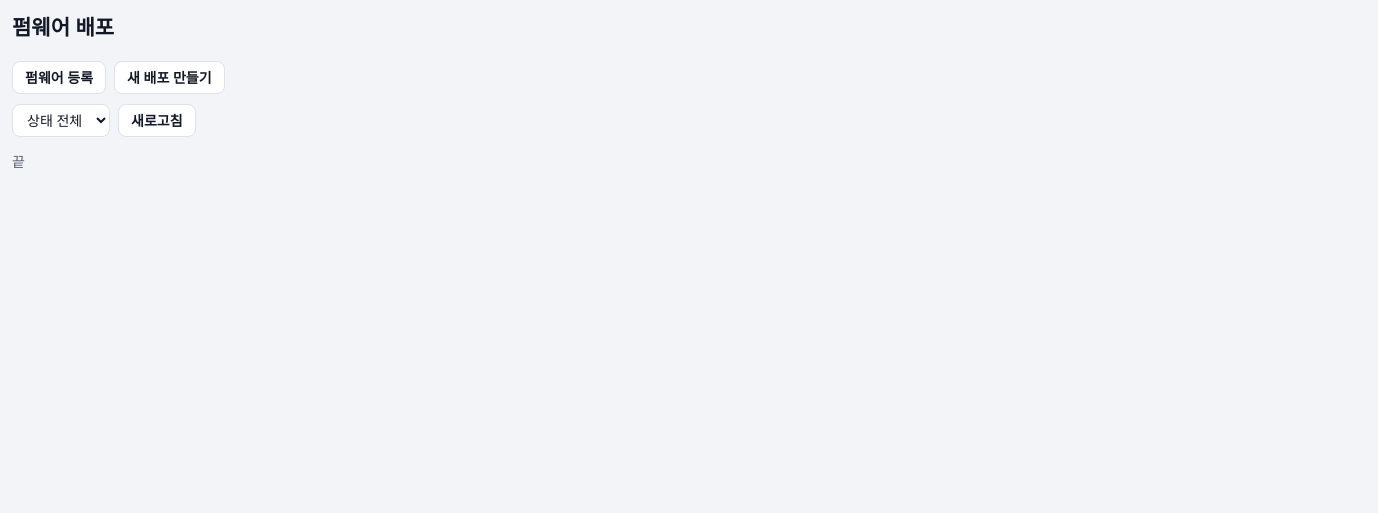
Test: 펌웨어 등록·배포 만들기 (F8, 보강 5) › 등록된 펌웨어가 없는 모델은 안내하고 버전 선택이 꺼진다. 진행 중 배포가 있으면(409 ROLLOUT_ALREADY_ACTIVE) 안내
Click the button "새 배포 만들기" at (169, 78), box x1=114 y1=61 x2=225 y2=94
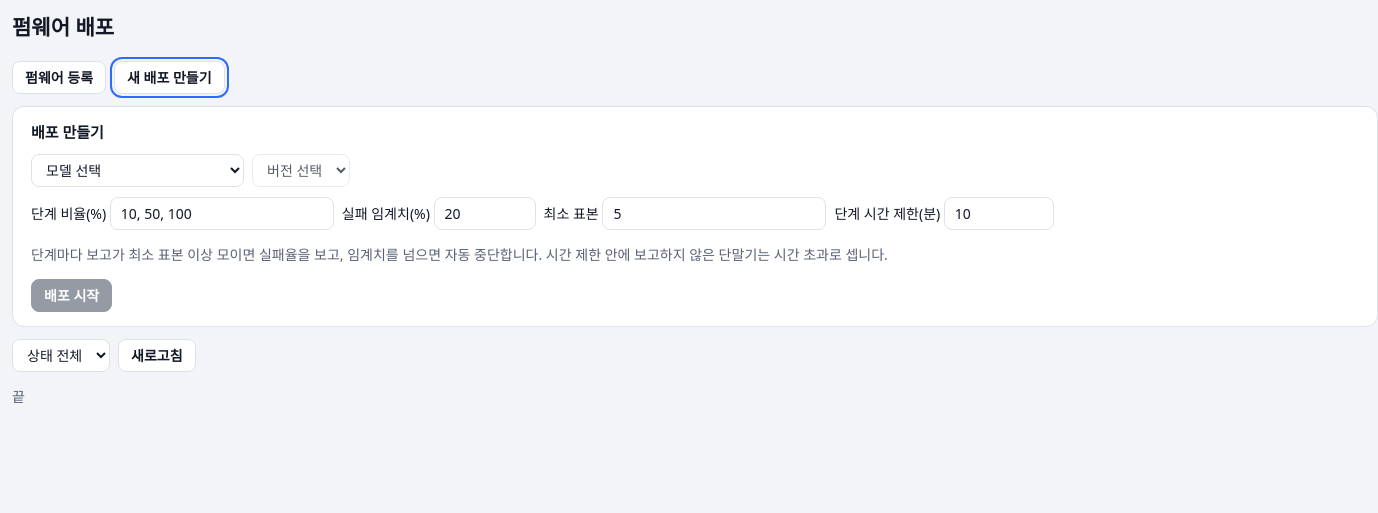
Select "SN-300 테이블오더 태블릿형" in the dropdown named "배포 모델" at (138, 170), box x1=31 y1=154 x2=244 y2=187
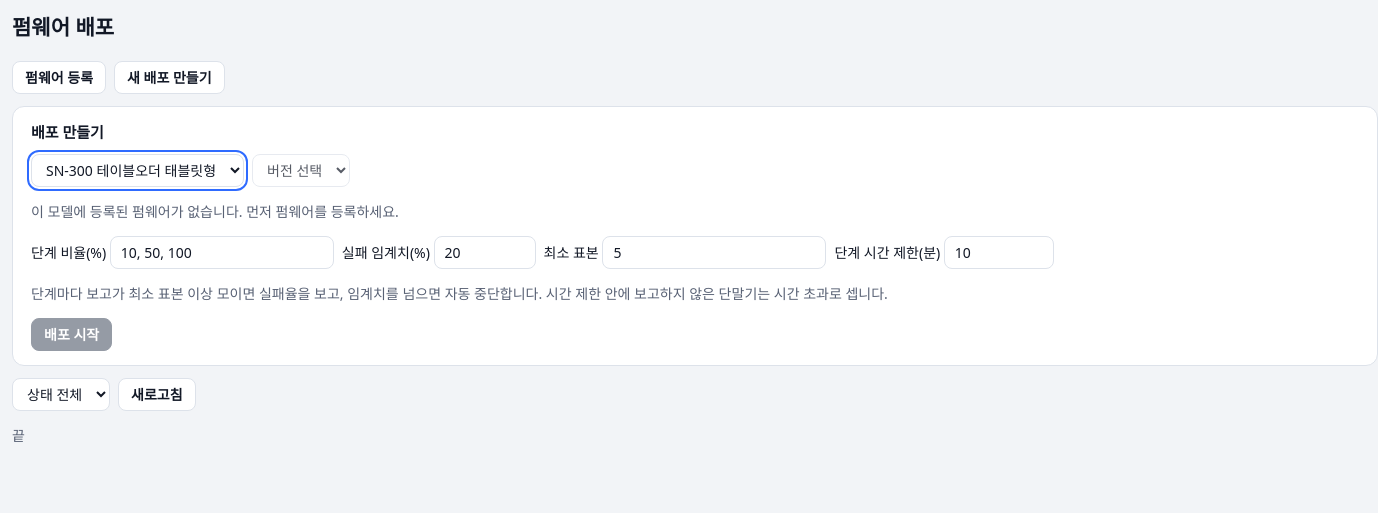
Result: the dropdown named "배포 버전" is disabled at x1=252 y1=154 x2=350 y2=187
Result: the text "이 모델에 등록된 펌웨어가 없습니다. 먼저 펌웨어를 등록하세요." is shown at x1=31 y1=202 x2=399 y2=221
Select "SN-100 유선 카운터형" in the dropdown named "배포 모델" at (138, 170), box x1=31 y1=154 x2=244 y2=187
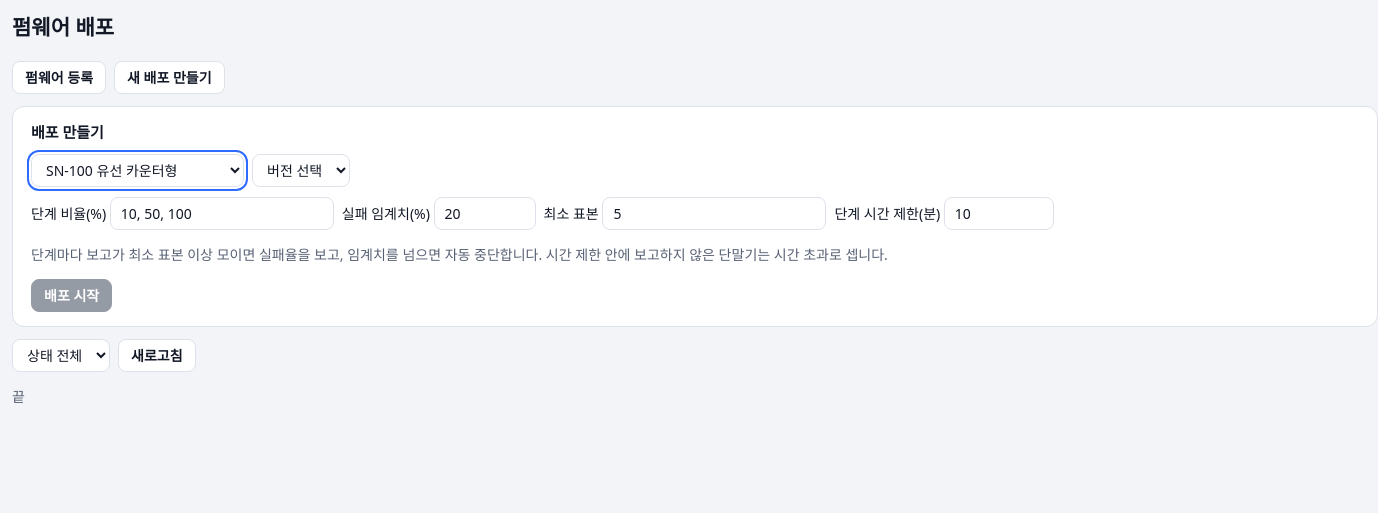
Select "2.1.0" in the dropdown named "배포 버전" at (301, 170), box x1=252 y1=154 x2=350 y2=187
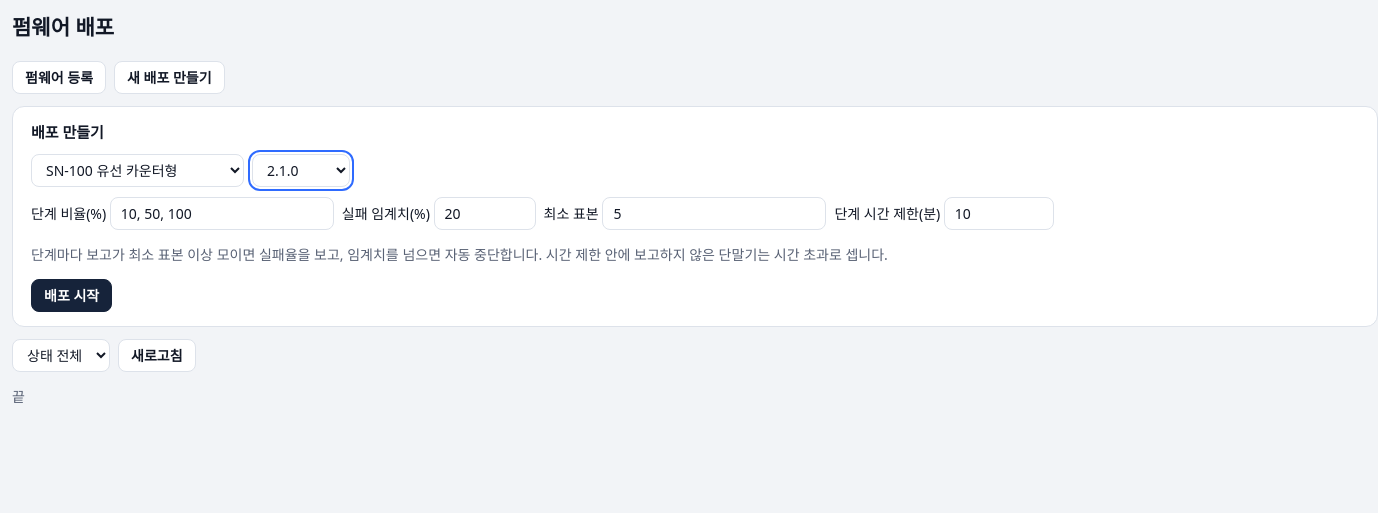
Click the button "배포 시작" at (72, 295), box x1=31 y1=279 x2=112 y2=312
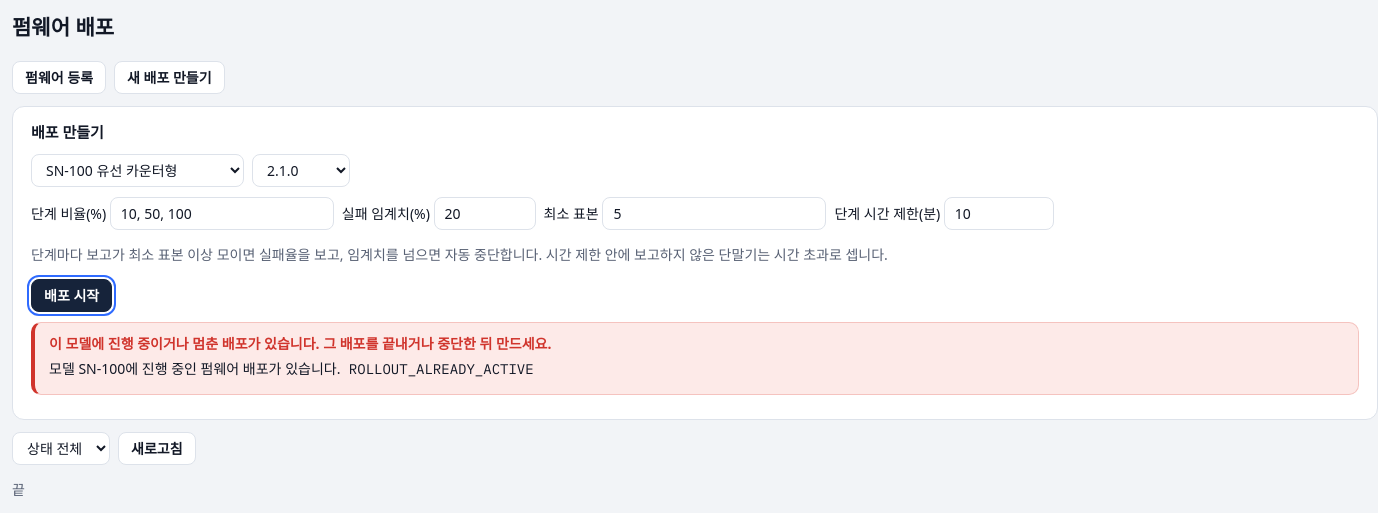
Result: the message shows "이 모델에 진행 중이거나 멈춘 배포가 있습니다" at x1=49 y1=334 x2=552 y2=353
